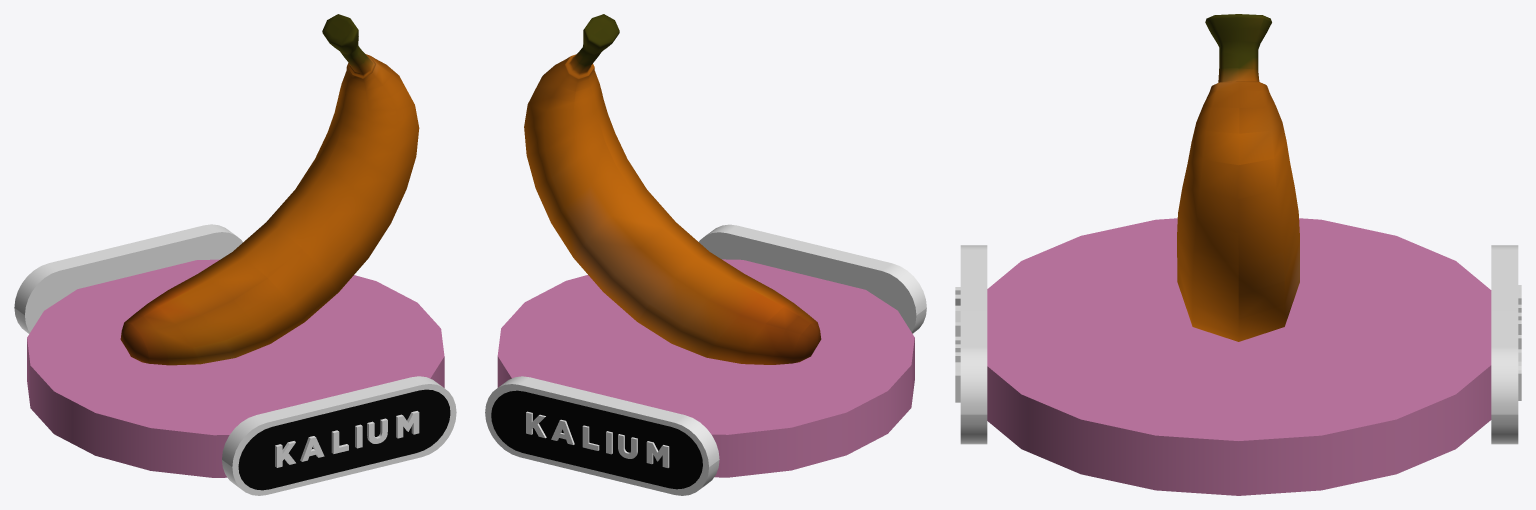
The model's file is banana_objectgeo.fbx.
The picture shows the model from 3 angles, left to right: view 1: azimuth 30°, elevation 25°; view 2: azimuth 150°, elevation 25°; view 3: azimuth 270°, elevation 25°; orthographic projection. The views are drawn at different scales.
Visible parts, largest first — view 1: bananabase_geo, banana_geo, plaquecolor_geo, plaquecolor_geo4, kaliumText_geo; view 2: bananabase_geo, banana_geo, plaquecolor_geo4, plaquecolor_geo, kaliumText_geo1; view 3: bananabase_geo, banana_geo, plaquecolor_geo4, plaquecolor_geo, kaliumText_geo.
Boxes of the visible parts, <box> form: bananabase_geo: <box>27,259,444,477</box>; banana_geo: <box>120,14,419,365</box>; plaquecolor_geo: <box>222,376,456,495</box>; plaquecolor_geo4: <box>14,224,242,333</box>; kaliumText_geo: <box>275,411,419,467</box>; bananabase_geo: <box>497,259,914,477</box>; banana_geo: <box>524,14,821,364</box>; plaquecolor_geo4: <box>485,376,719,495</box>; plaquecolor_geo: <box>699,224,926,333</box>; kaliumText_geo1: <box>526,411,669,467</box>; bananabase_geo: <box>987,218,1491,495</box>; banana_geo: <box>1177,14,1299,341</box>; plaquecolor_geo4: <box>1491,245,1518,444</box>; plaquecolor_geo: <box>960,245,987,444</box>; kaliumText_geo: <box>955,287,960,402</box>.
Bounding box in the file's own units: 18.1 × 16.68 × 19.08.
